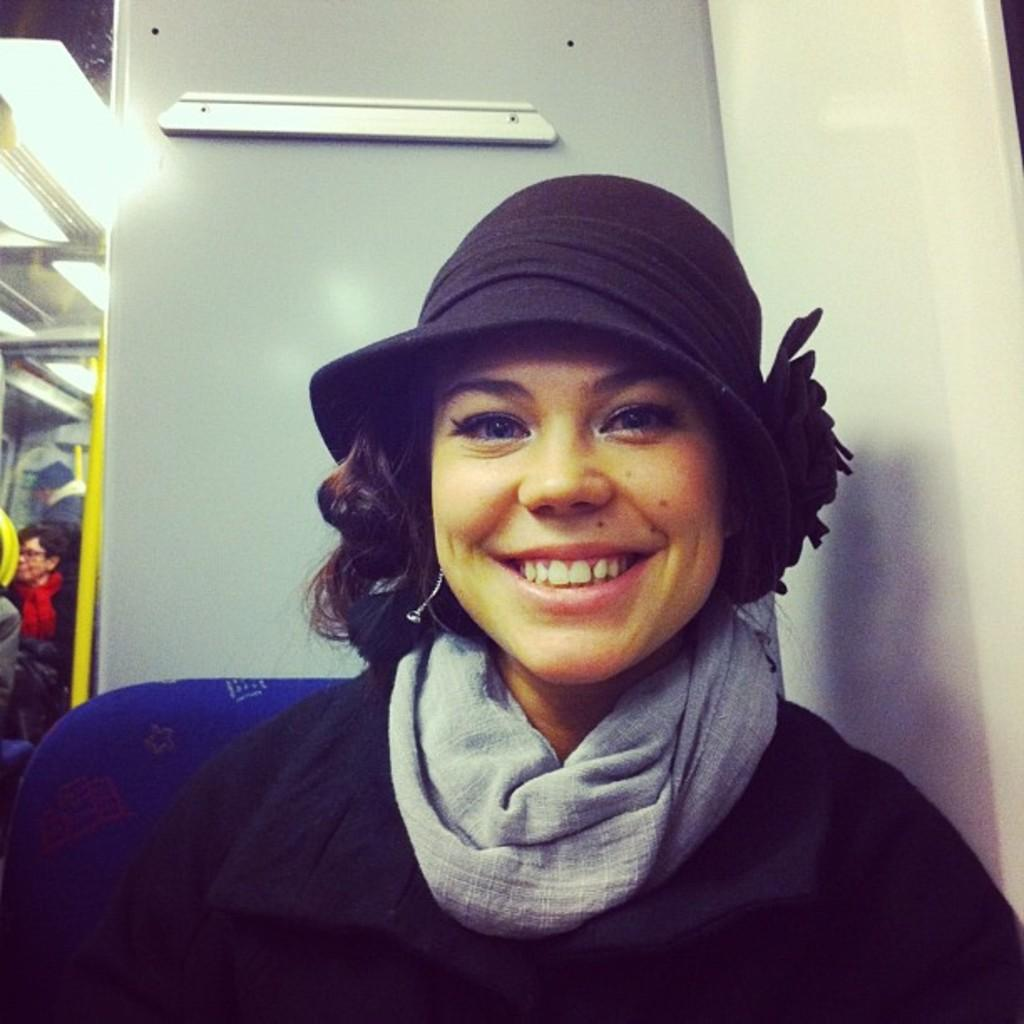Hat: (310, 174, 862, 606)
